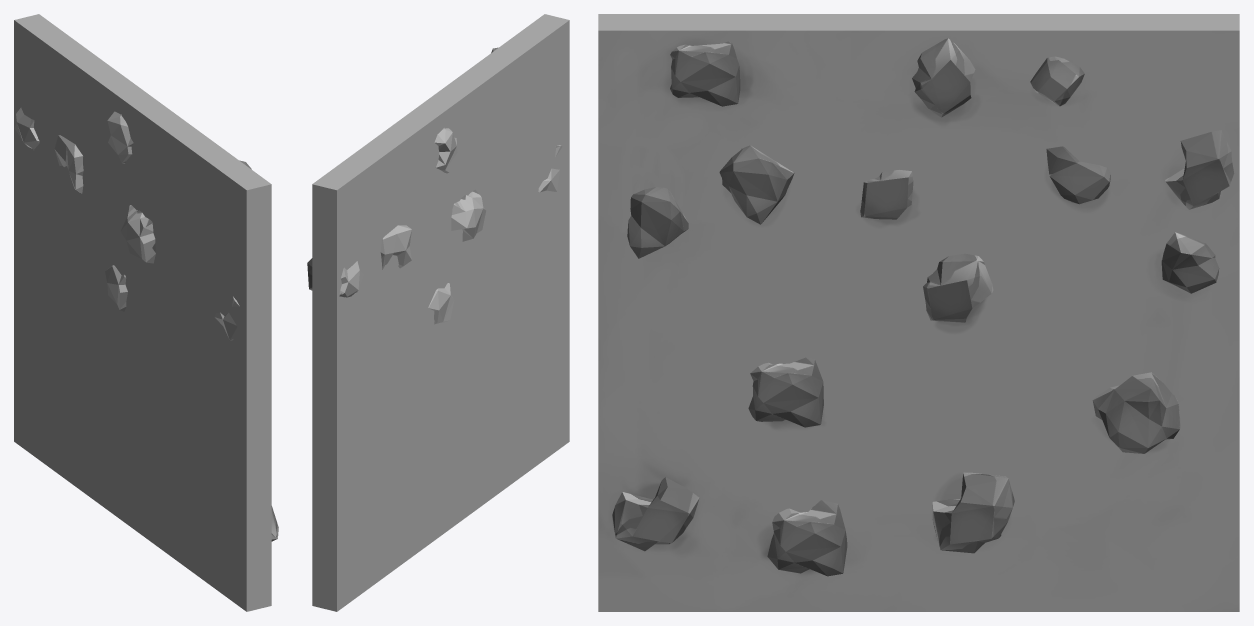
File: SC_Wall_Ana.fbx
3 views of the same model, side by side, from view 1: azimuth 30°, elevation 25°; view 2: azimuth 150°, elevation 25°; view 3: azimuth 270°, elevation 25° (orthographic). The views are drawn at different scales.
Visible parts, largest first — view 1: SC_Wall, SC_Rock; view 2: SC_Wall, SC_Rock; view 3: SC_Wall, SC_Rock.
Part boxes in pixels (x1=…): SC_Wall: x1=14, y1=14, x2=271, y2=611; SC_Rock: x1=14, y1=107, x2=278, y2=541; SC_Wall: x1=312, y1=14, x2=569, y2=611; SC_Rock: x1=307, y1=47, x2=562, y2=324; SC_Wall: x1=598, y1=14, x2=1239, y2=611; SC_Rock: x1=612, y1=38, x2=1234, y2=576.
Bounding box in the file's own units: 31.89 × 200 × 200.
